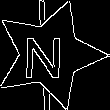N_N: (28, 29, 71, 80)
